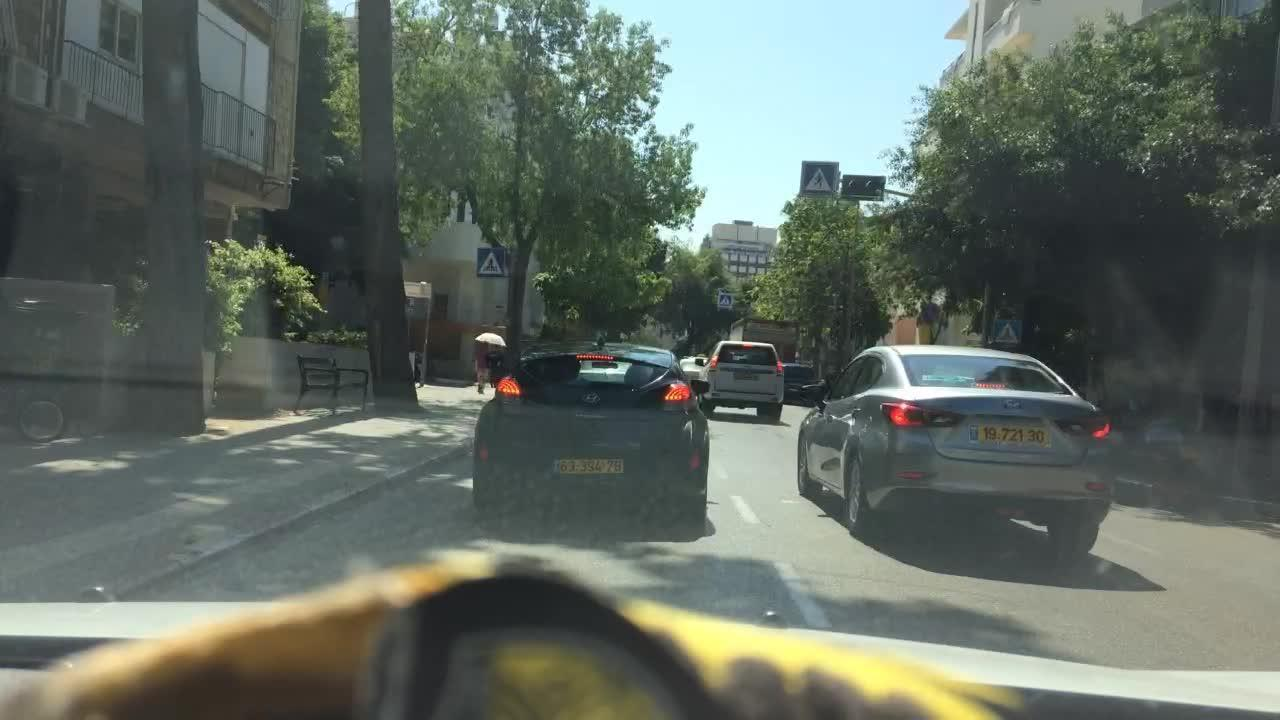Hyundai: (579, 389, 605, 409)
